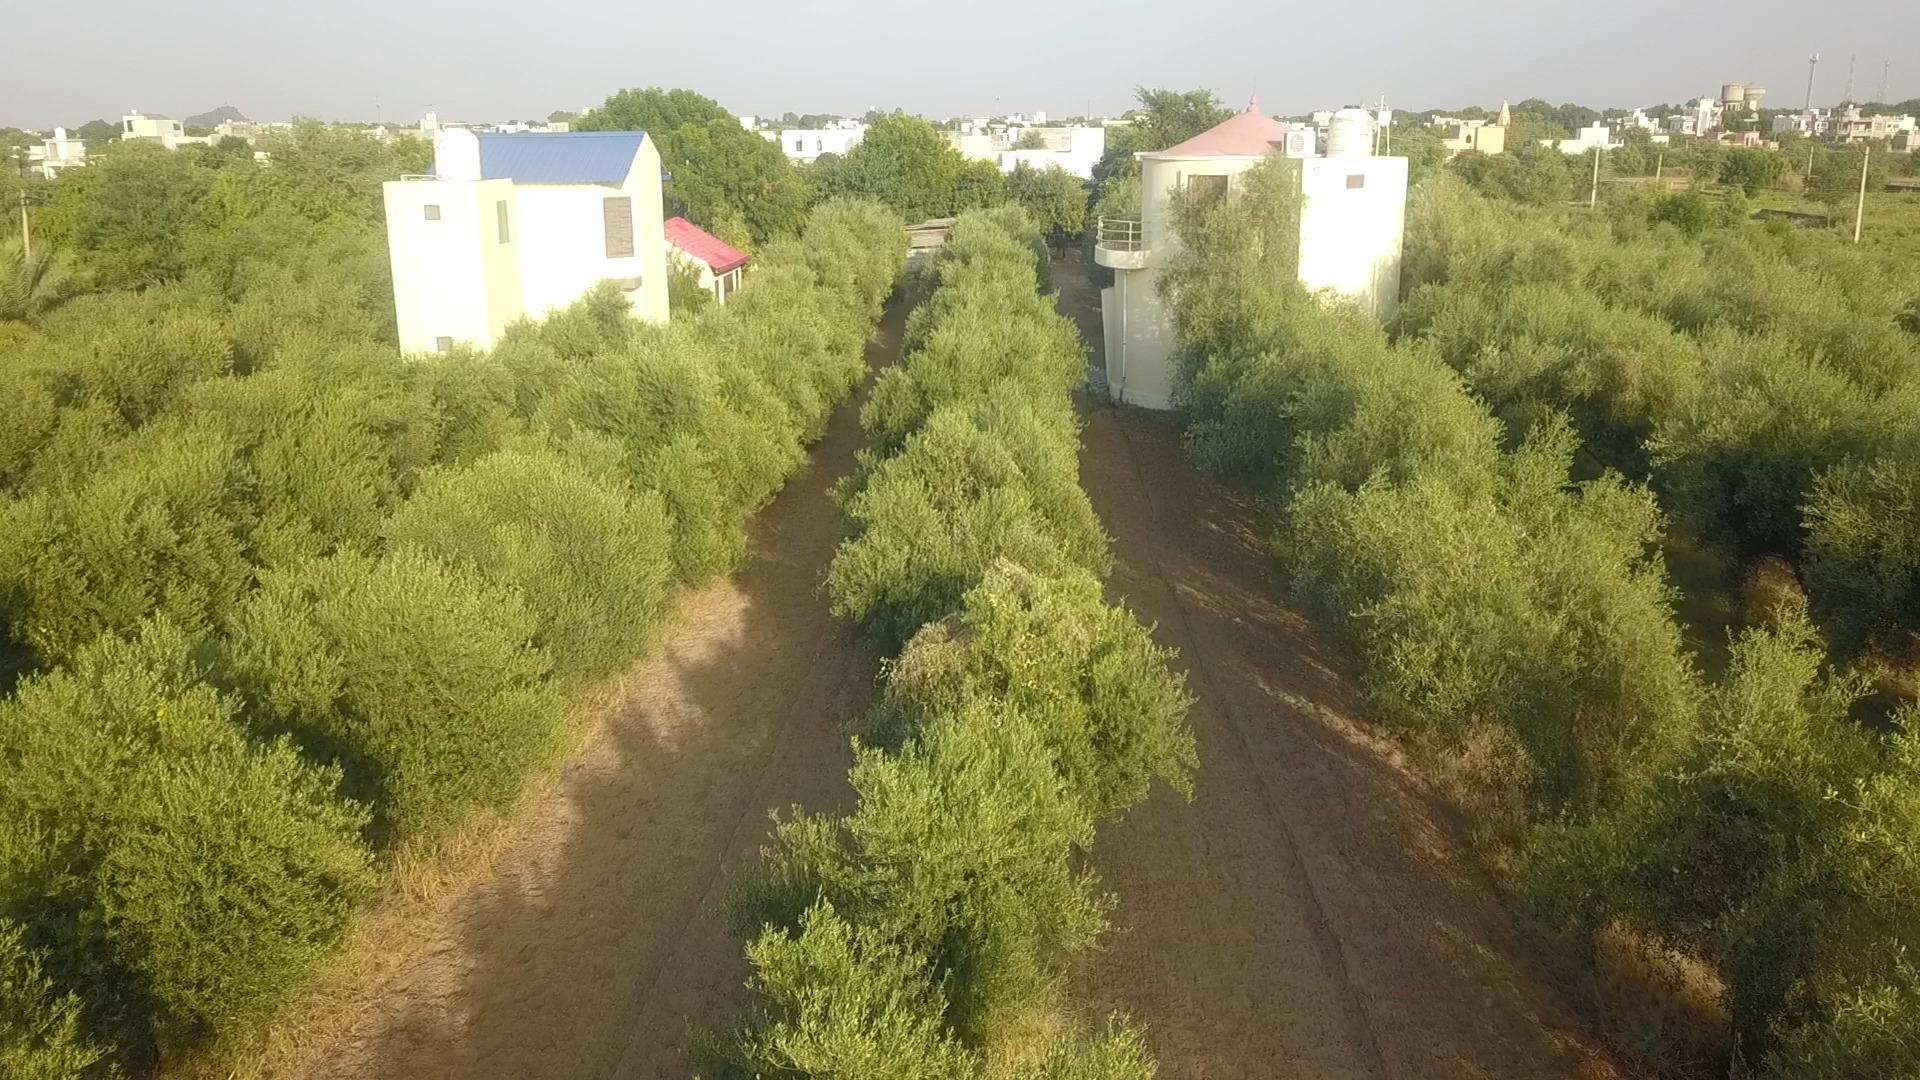canopy: (0, 199, 902, 1079), (1182, 240, 1859, 1040), (740, 208, 1197, 1079)
road: (282, 393, 876, 1079), (1083, 407, 1618, 1079)
